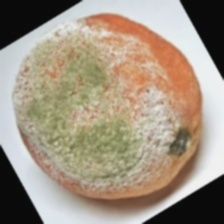orange: (22, 25, 198, 170)
